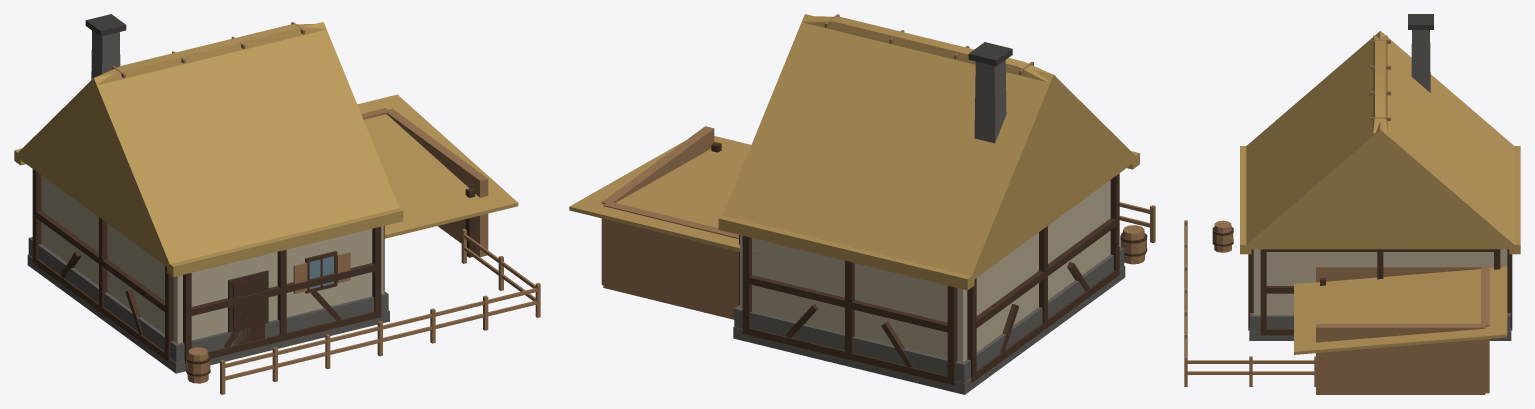
File: farmhouse.glb
3 renders of one model, left to right at view 1: azimuth 30°, elevation 25°; view 2: azimuth 150°, elevation 25°; view 3: azimuth 270°, elevation 25°, orthographic. The views are drawn at different scales.
Visible parts, largest first — view 1: farmhouse_lod0; view 2: farmhouse_lod0; view 3: farmhouse_lod0.
Part boxes in pixels (x1,y1,x2,y2): farmhouse_lod0: (14,14,540,394); farmhouse_lod0: (569,14,1155,394); farmhouse_lod0: (1184,14,1520,394).
Size of what is drawn, in the model's own units: 11.31 by 7.87 by 9.95.
